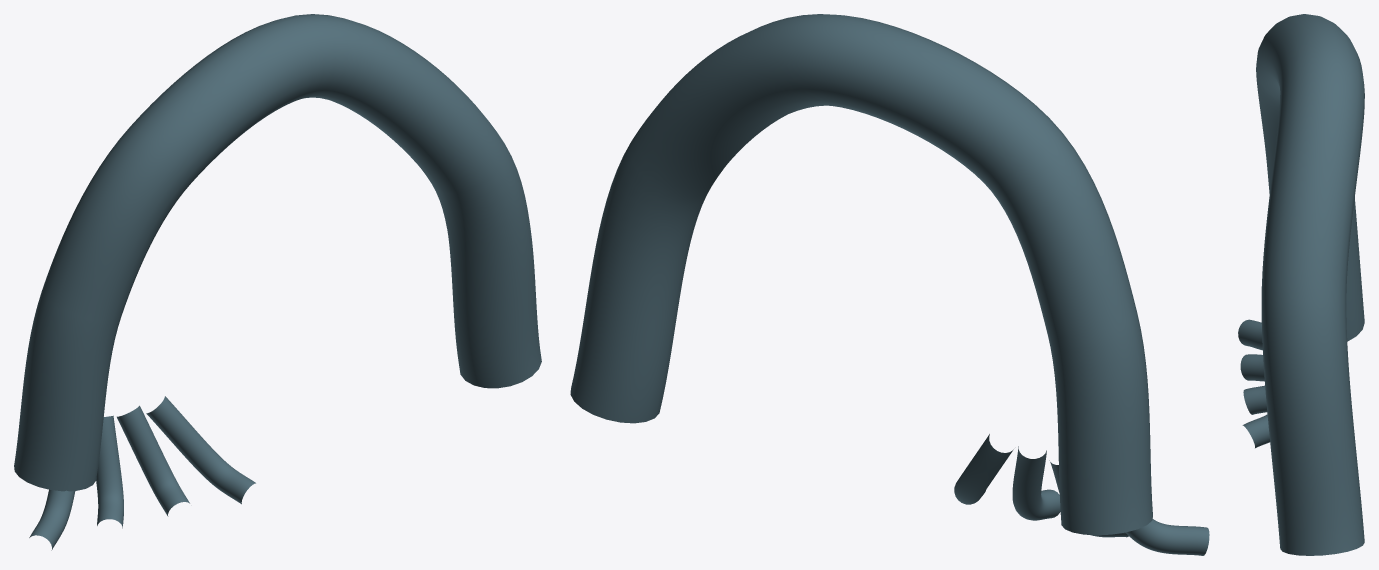
3 views of the same model, side by side, from view 1: azimuth 30°, elevation 25°; view 2: azimuth 150°, elevation 25°; view 3: azimuth 270°, elevation 25° (orthographic). The views are drawn at different scales.
Parts seen in each view (by area): view 1: root-arch, rootlet-3, rootlet-2, rootlet-1, rootlet-0; view 2: root-arch, rootlet-2, rootlet-0, rootlet-3; view 3: root-arch, rootlet-0, rootlet-1, rootlet-2, rootlet-3.
Part boxes in pixels (bbox=[...]): root-arch: bbox=[14, 14, 541, 491]; rootlet-3: bbox=[146, 396, 255, 504]; rootlet-2: bbox=[117, 405, 189, 516]; rootlet-1: bbox=[96, 415, 123, 528]; rootlet-0: bbox=[29, 489, 75, 550]; root-arch: bbox=[570, 14, 1152, 535]; rootlet-2: bbox=[1012, 446, 1060, 520]; rootlet-0: bbox=[1126, 519, 1209, 555]; rootlet-3: bbox=[954, 434, 1013, 504]; root-arch: bbox=[1256, 14, 1364, 555]; rootlet-0: bbox=[1238, 319, 1262, 350]; rootlet-1: bbox=[1240, 354, 1264, 381]; rootlet-2: bbox=[1243, 385, 1267, 414]; rootlet-3: bbox=[1242, 414, 1269, 448].
Size of the model in its own units: 2.39 by 1.86 by 0.4783.
